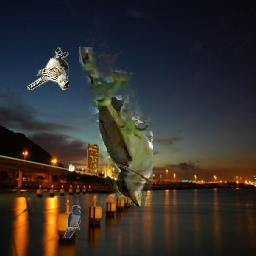Cuckoo: (79, 48, 153, 207)
Sparrow: (27, 48, 69, 91)
Swallow: (63, 206, 81, 239)
